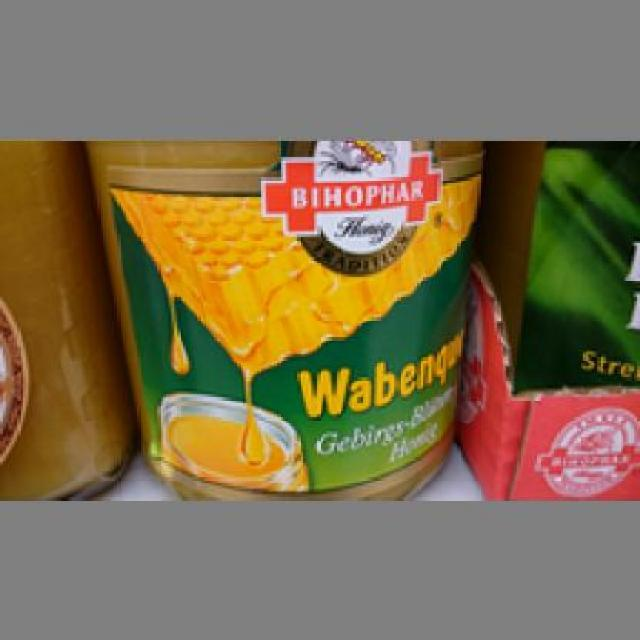Honey: (83, 134, 483, 497)
